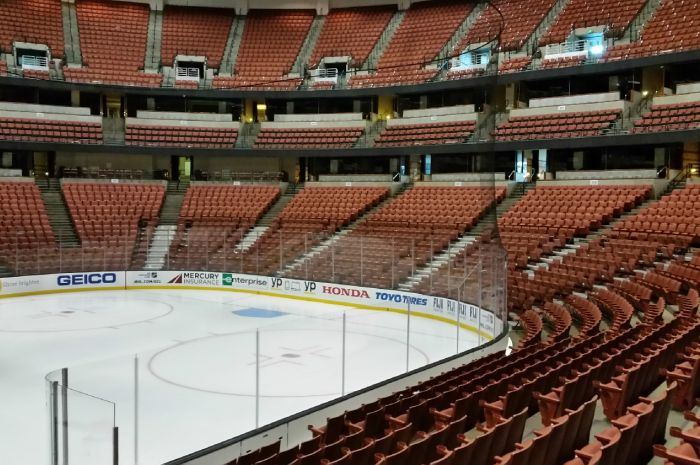Geico: (55, 270, 119, 287)
